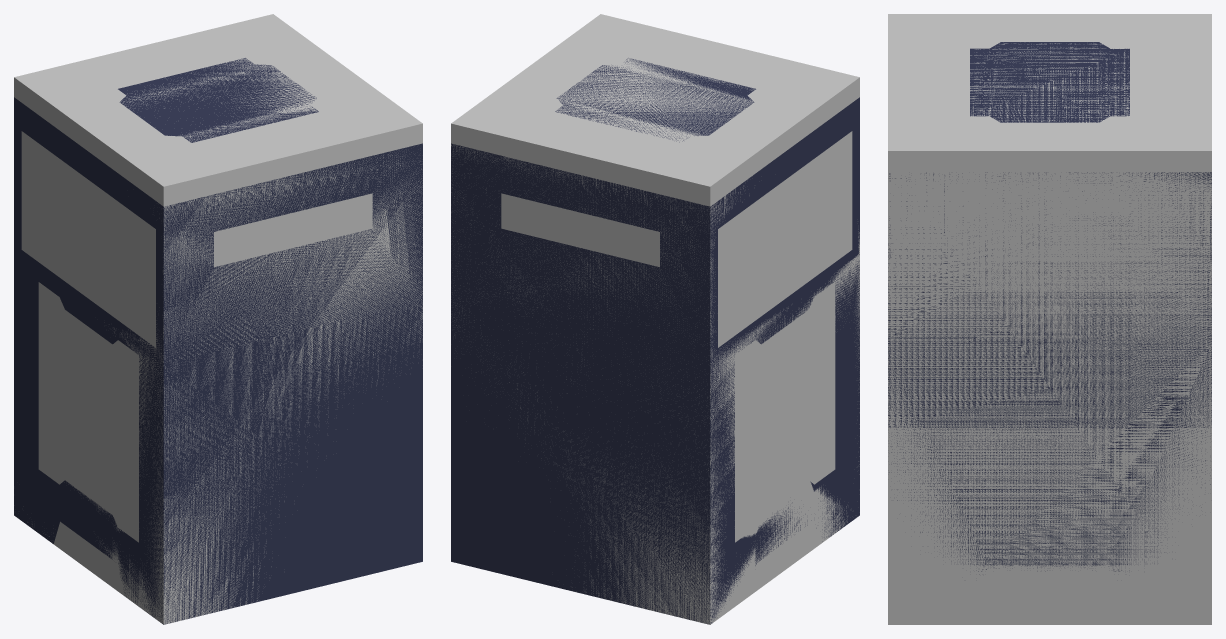
Rendered from SM_GarbageCan_01.fbx.
The picture shows the model from 3 angles, left to right: view 1: azimuth 30°, elevation 25°; view 2: azimuth 150°, elevation 25°; view 3: azimuth 270°, elevation 25°; orthographic projection. The views are drawn at different scales.
Visible parts, largest first — view 1: SM_GarbageCan_01, SM_GarbageCan_01_ConvexHulls; view 2: SM_GarbageCan_01, SM_GarbageCan_01_ConvexHulls; view 3: SM_GarbageCan_01_ConvexHulls, SM_GarbageCan_01.
Boxes of the visible parts, box(x1,y1,x2,y2) form: SM_GarbageCan_01: box(14, 58, 422, 624); SM_GarbageCan_01_ConvexHulls: box(14, 14, 422, 624); SM_GarbageCan_01: box(451, 58, 859, 624); SM_GarbageCan_01_ConvexHulls: box(451, 14, 859, 624); SM_GarbageCan_01_ConvexHulls: box(888, 14, 1211, 624); SM_GarbageCan_01: box(888, 42, 1211, 574).
Bounding box in the file's own units: 79.57 × 79.57 × 129.
2 materials, 1 textured.
